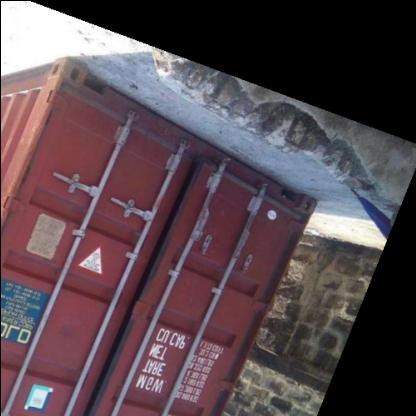Damage: (89, 92, 218, 158)
